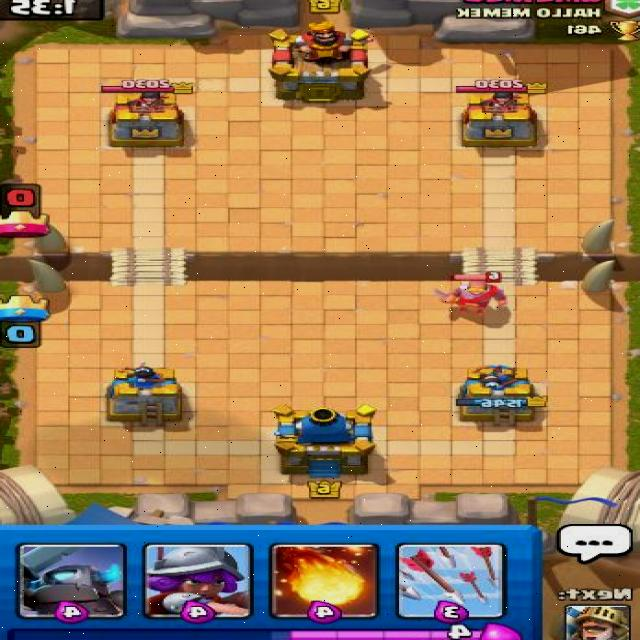Enemy-Knight: (432, 270, 511, 315)
